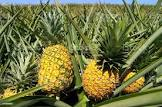Pineapple: (83, 14, 132, 101), (35, 5, 76, 94)
